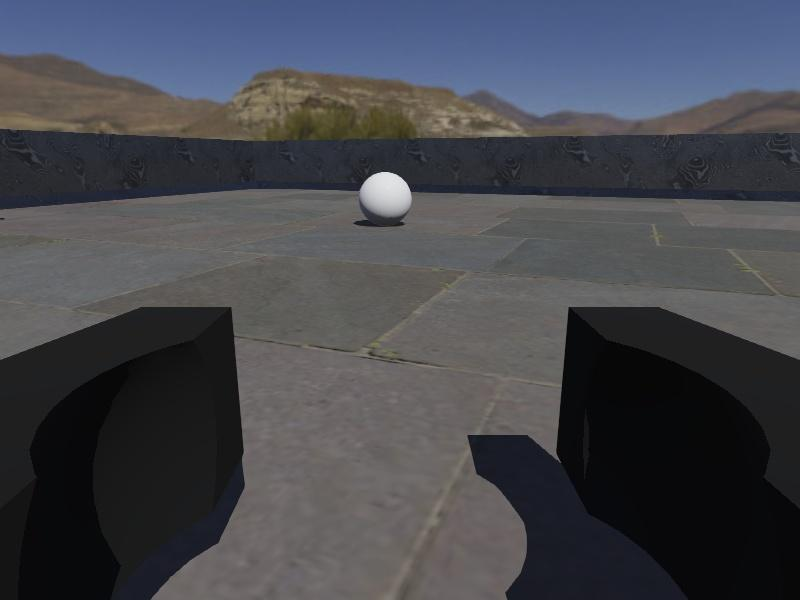white ball: (358, 172, 412, 225)
